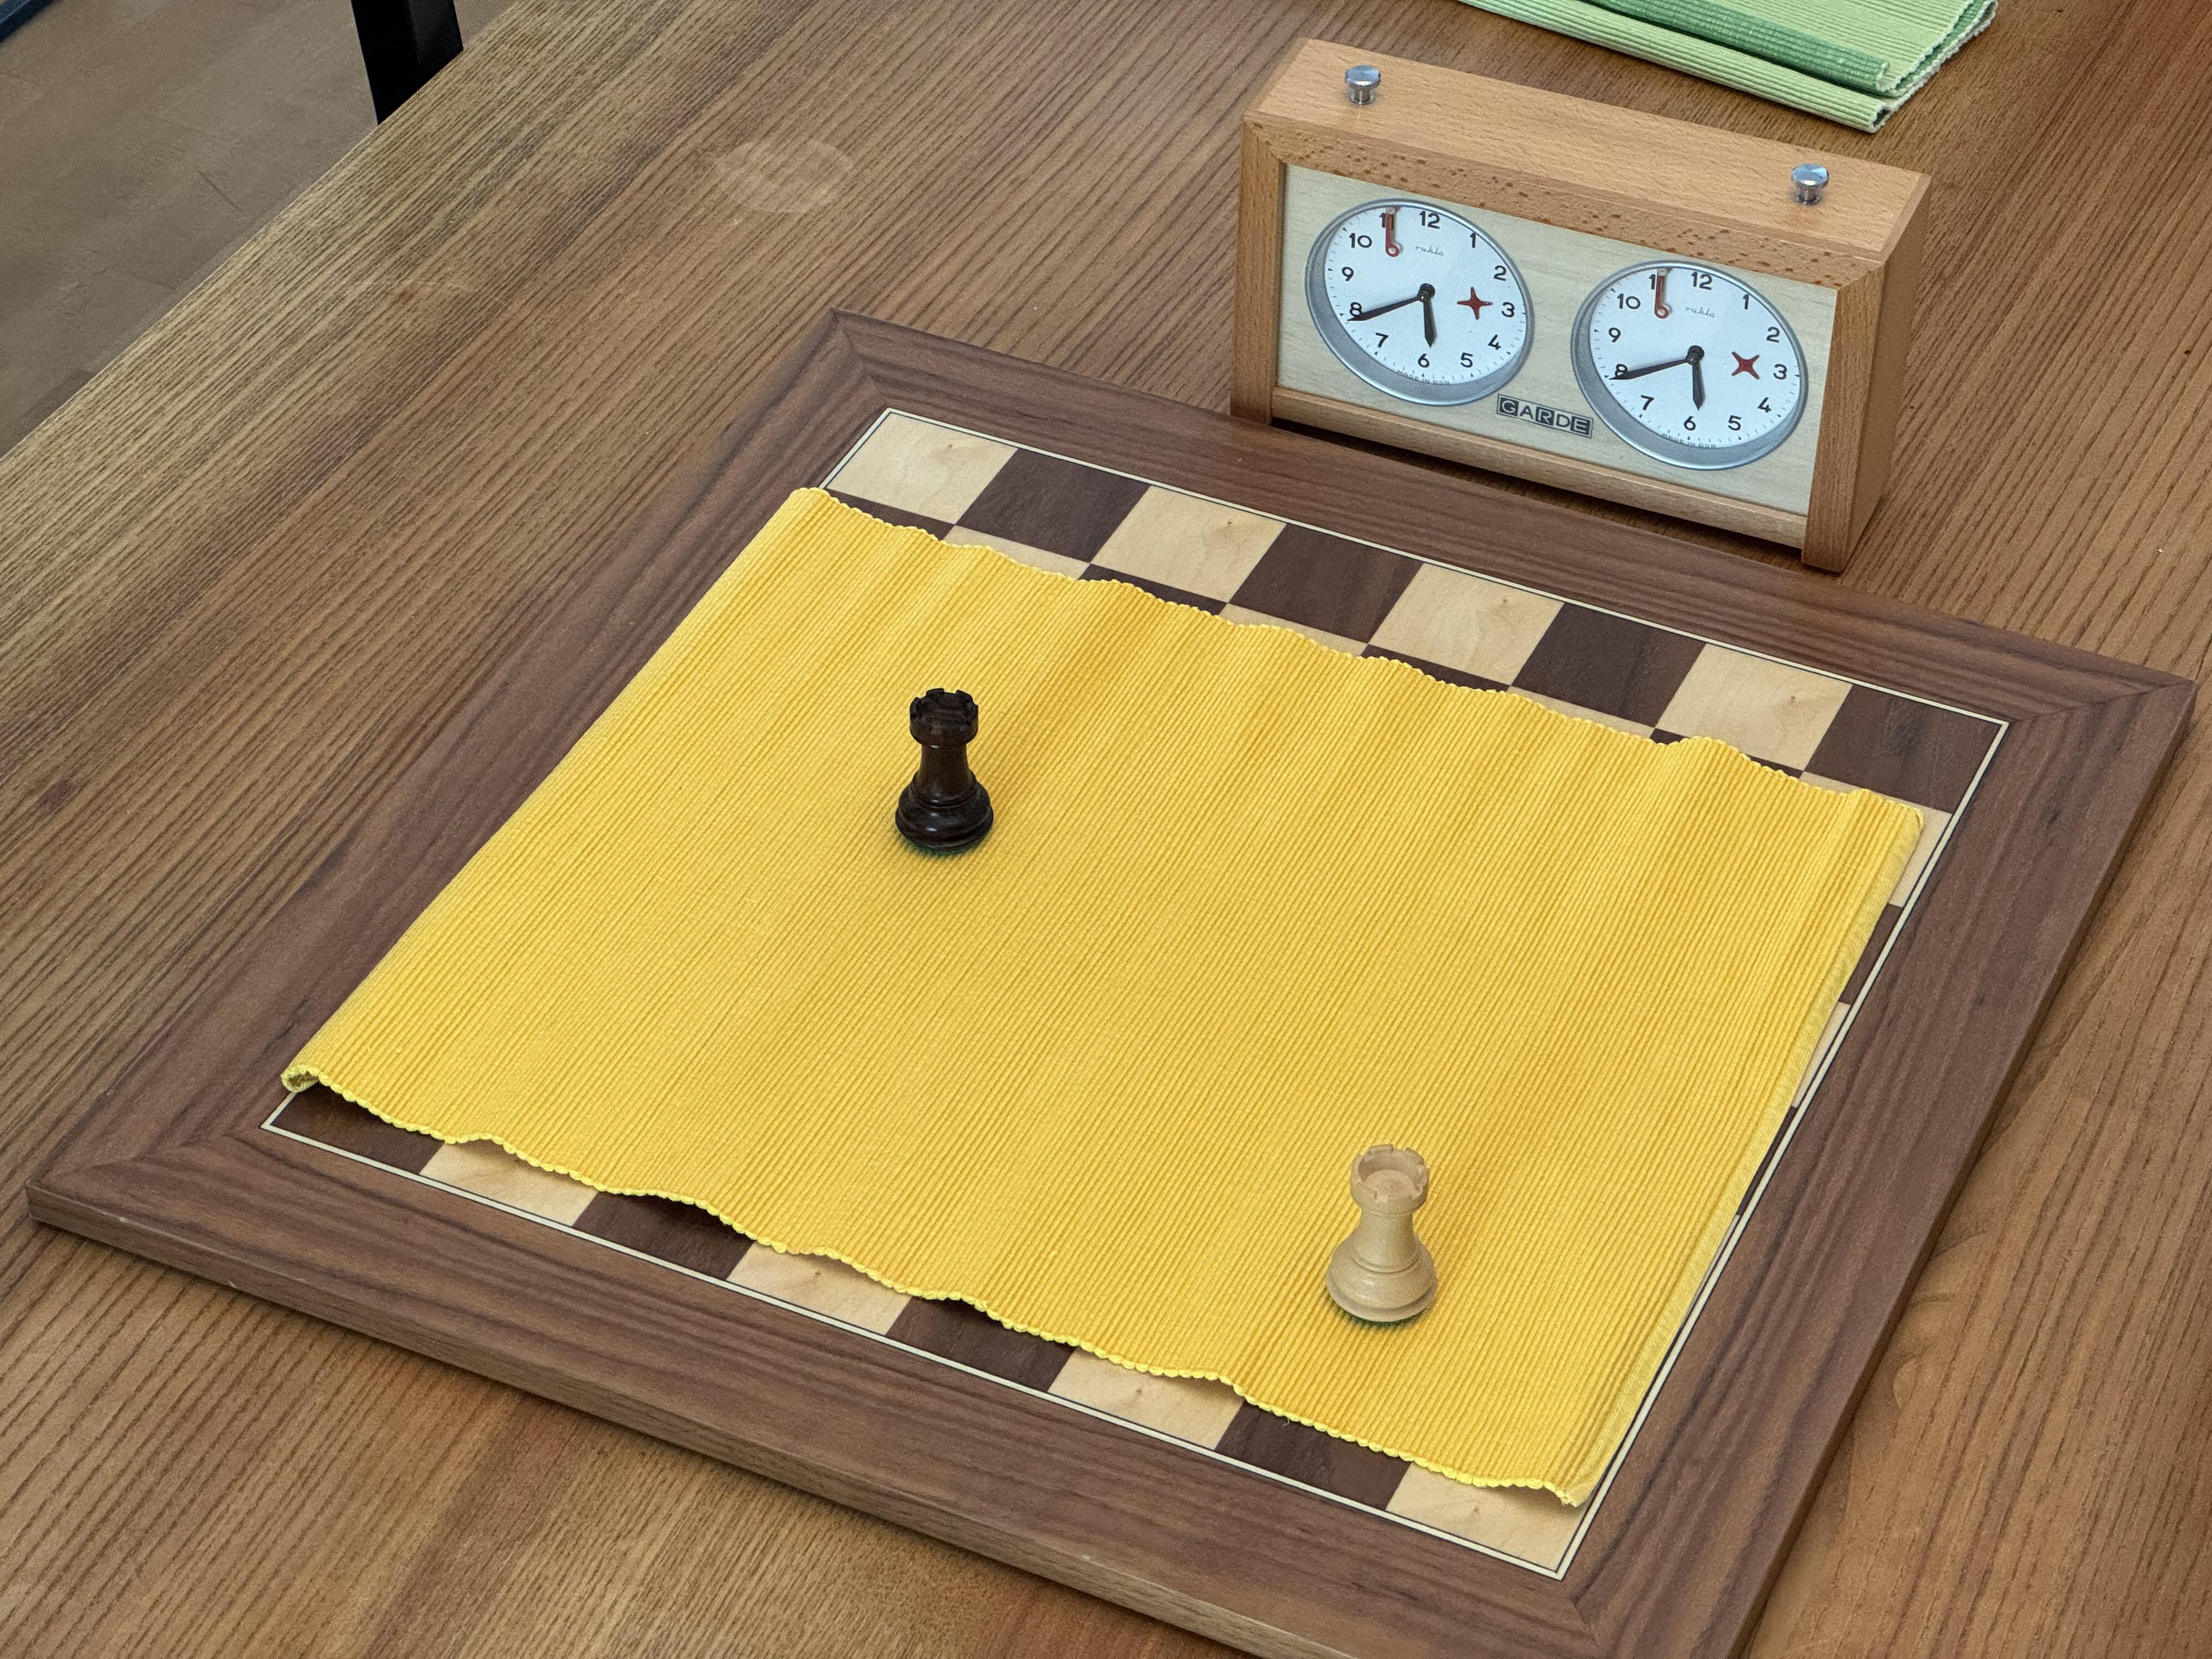Black Rook: (880, 674, 1005, 870)
White Rook: (1312, 1134, 1447, 1347)
